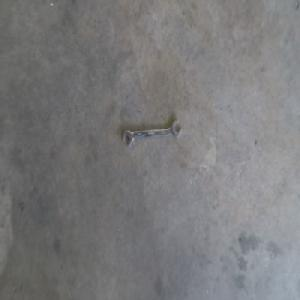Wrench: (123, 118, 186, 148)
